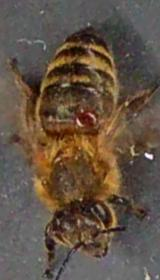varroa_mite: (74, 106, 104, 132)
